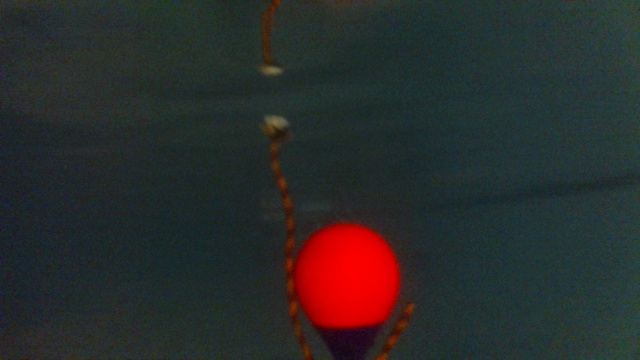buoy_red: (291, 219, 398, 355)
